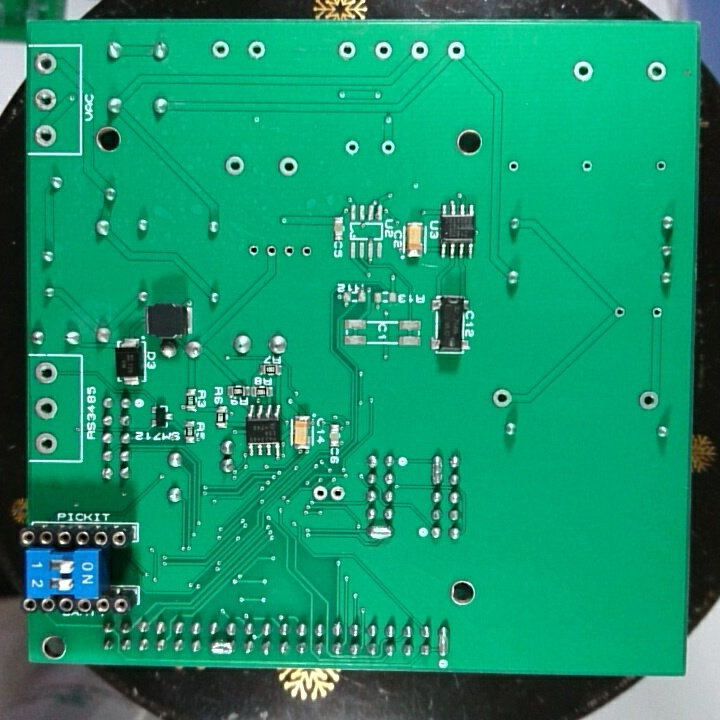F: (32, 358, 60, 387), (33, 122, 61, 150), (33, 395, 60, 422), (31, 86, 59, 112), (32, 50, 58, 78), (32, 430, 59, 456), (276, 153, 301, 180), (222, 152, 247, 178), (571, 58, 597, 83), (244, 38, 269, 63), (445, 38, 469, 63), (371, 38, 394, 63), (637, 389, 661, 412), (645, 59, 668, 83), (491, 386, 513, 409), (336, 38, 359, 60), (210, 38, 232, 60), (408, 39, 430, 61), (342, 136, 362, 157), (328, 483, 347, 505), (652, 155, 671, 175), (311, 483, 329, 504), (577, 156, 595, 176), (379, 138, 397, 157), (505, 155, 522, 175), (298, 240, 314, 261), (611, 303, 629, 321), (245, 241, 262, 260), (262, 241, 278, 260), (648, 303, 665, 320), (282, 240, 296, 260)
P: (365, 523, 397, 542), (428, 452, 445, 486), (208, 638, 237, 657), (437, 623, 452, 657)
